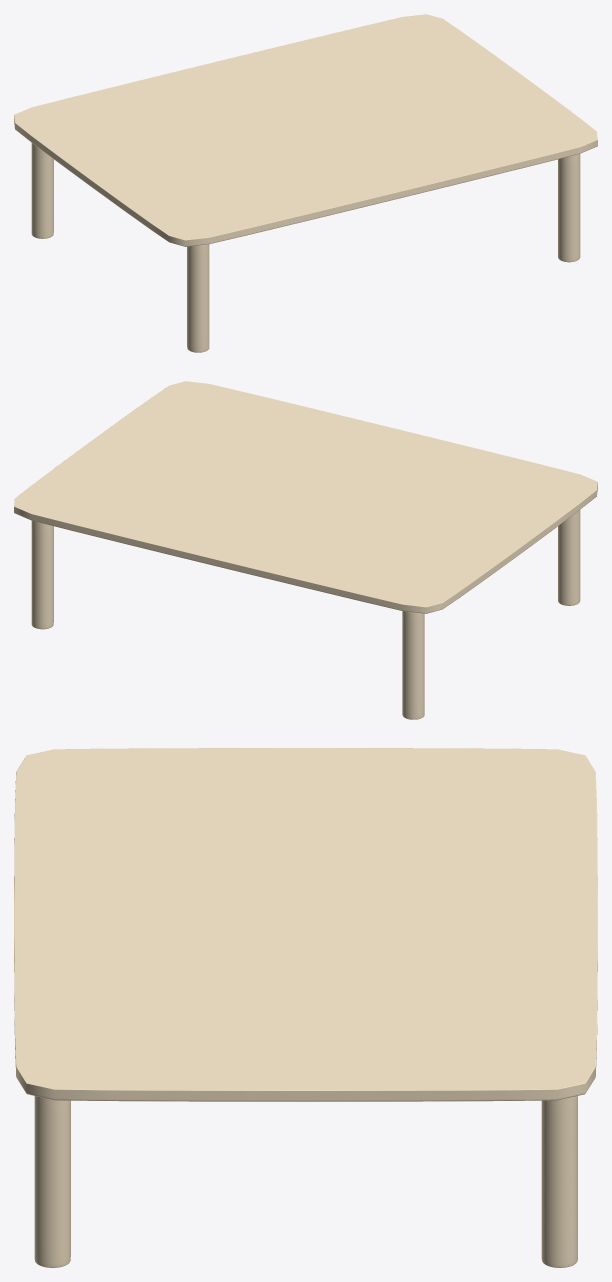
File: TableModel.fbx
The picture shows the model from 3 angles, top to bottom: view 1: azimuth 30°, elevation 25°; view 2: azimuth 150°, elevation 25°; view 3: azimuth 270°, elevation 25°; orthographic projection. The views are drawn at different scales.
Parts seen in each view (by area): view 1: Cube.057; view 2: Cube.057; view 3: Cube.057.
Part boxes in pixels (x1,y1,x2,y2): Cube.057: [14, 14, 597, 352]; Cube.057: [14, 381, 597, 719]; Cube.057: [14, 748, 597, 1267].
Size of the model in its own units: 380 by 100 by 274.
